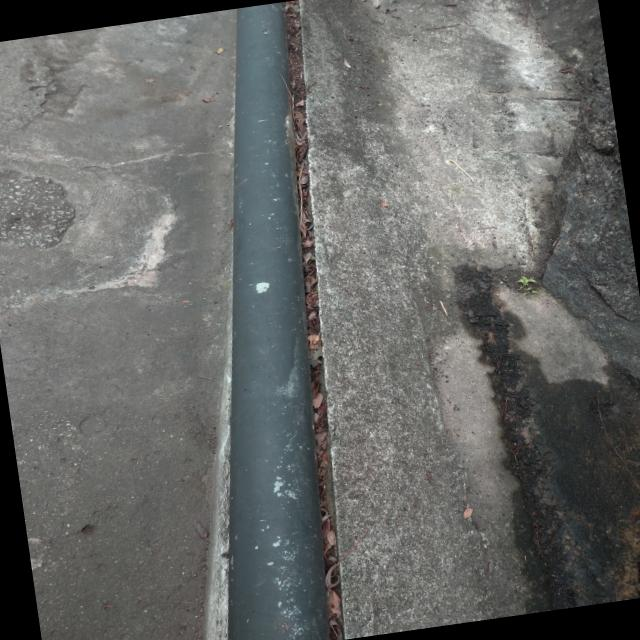gas: (136, 1, 374, 640)
